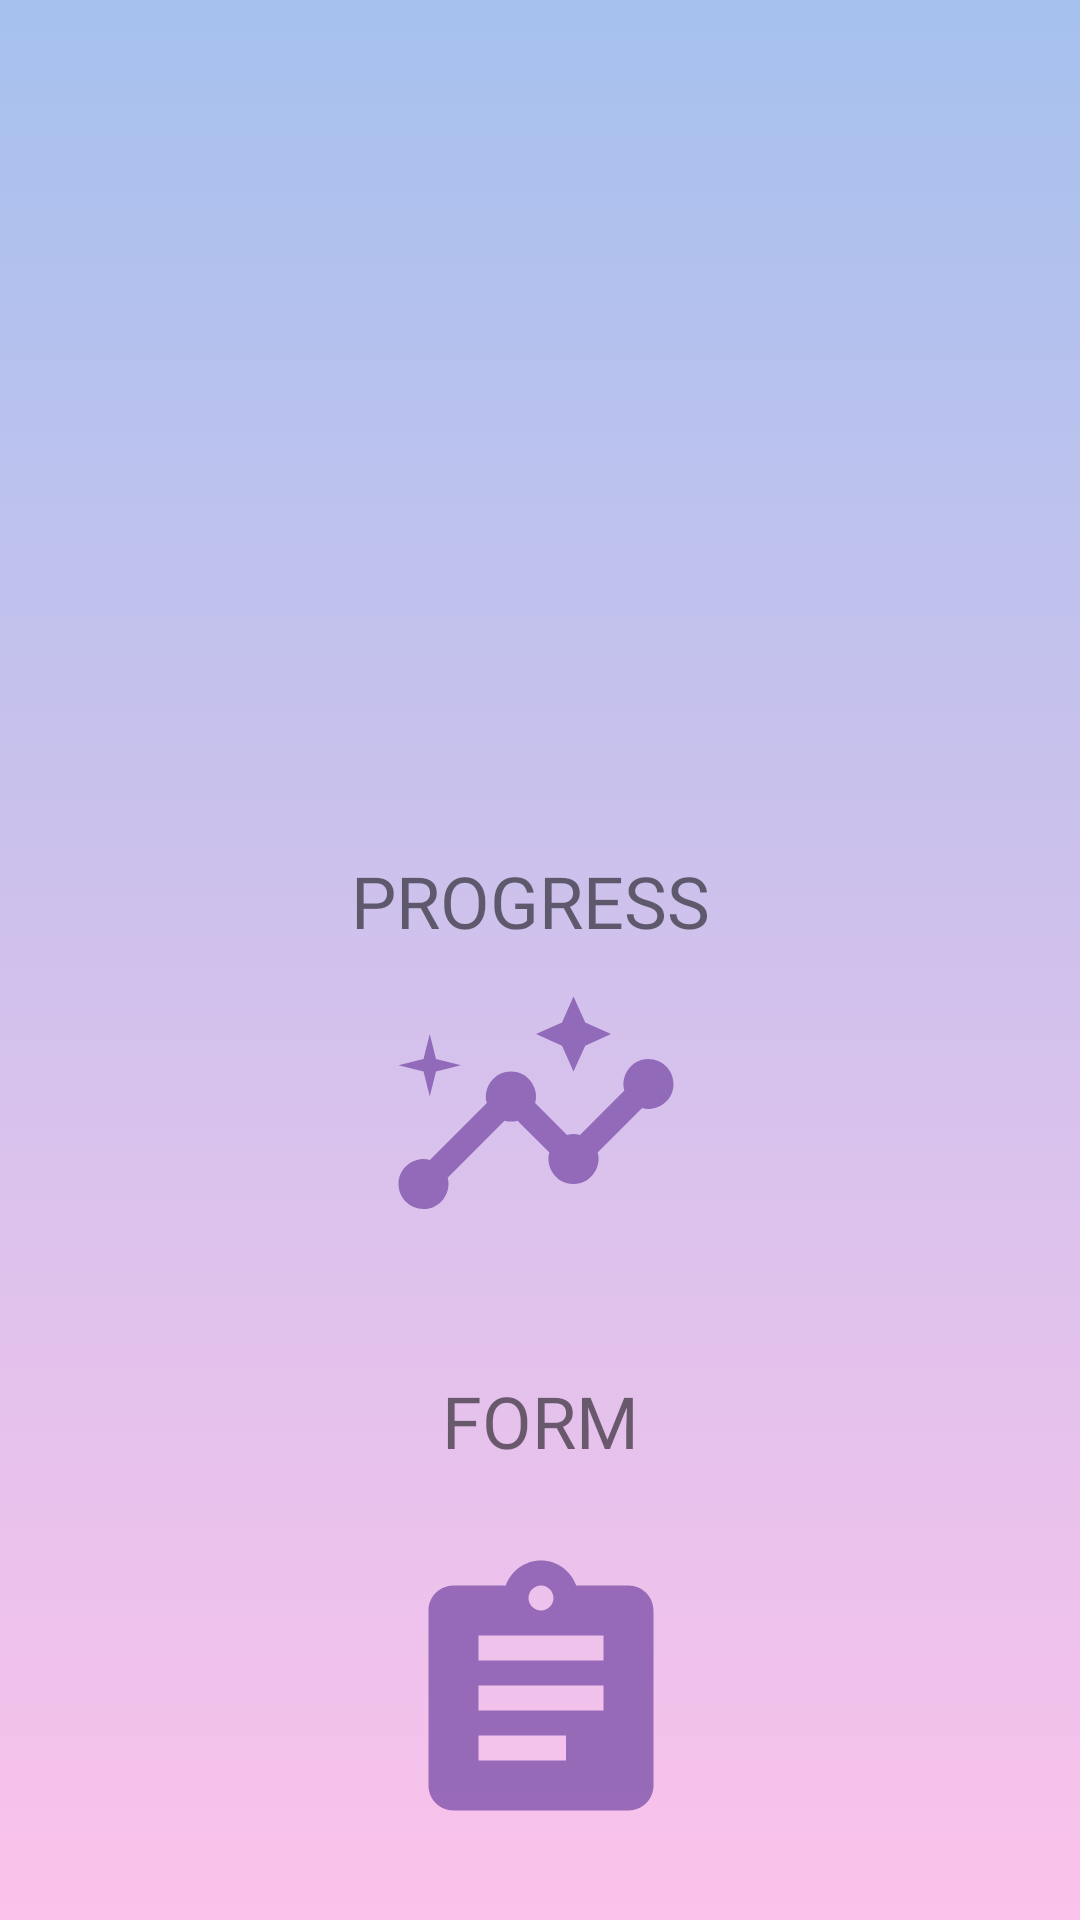

Icons on this 1080 × 1920 Android screen, each with the point to tap as point (x, y):
ankieta: point (541, 1685)
